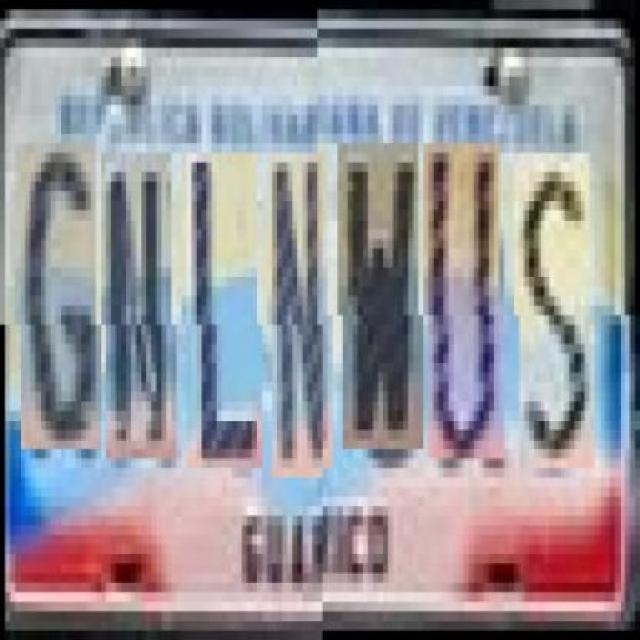g: (20, 143, 102, 449)
l: (187, 153, 262, 469)
n: (106, 152, 176, 458), (272, 153, 332, 478)
s: (518, 162, 596, 478)
u: (428, 153, 504, 469)
w: (343, 152, 423, 458)
